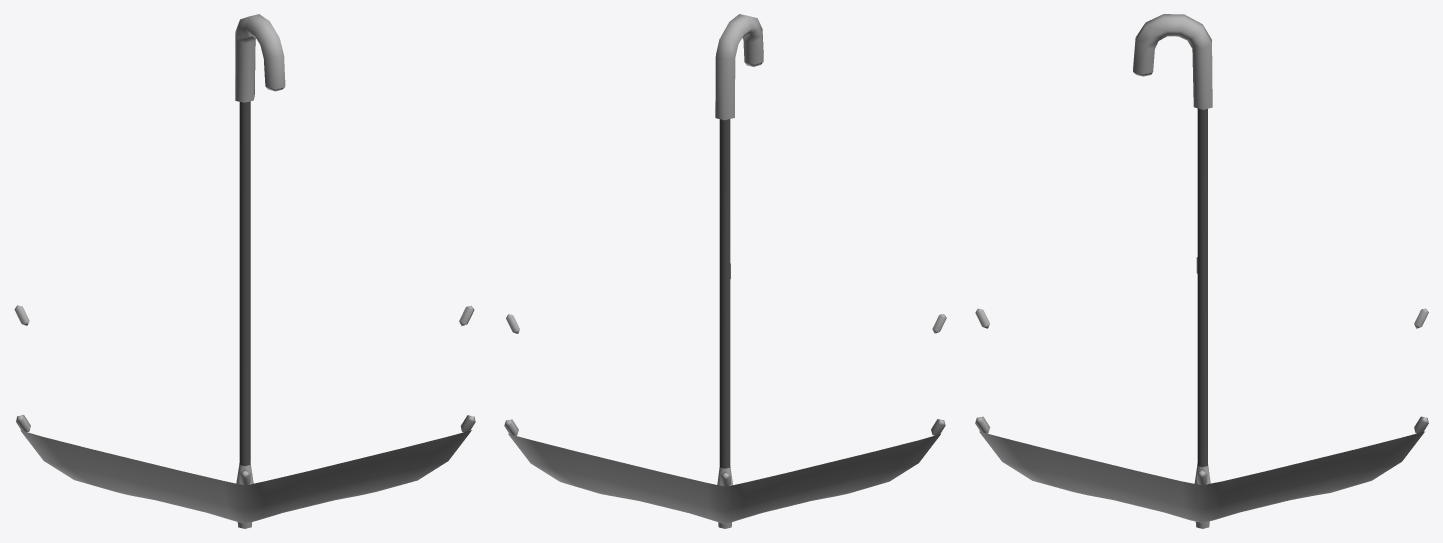
The model's file is UmbrellaVinyl0.glb.
The picture shows the model from 3 angles, left to right: view 1: azimuth 30°, elevation 25°; view 2: azimuth 150°, elevation 25°; view 3: azimuth 270°, elevation 25°; orthographic projection. The views are drawn at different scales.
Parts seen in each view (by area): view 1: Pole__mUmbrella; view 2: Pole__mUmbrella; view 3: Pole__mUmbrella.
Part boxes in pixels (x1=…): Pole__mUmbrella: x1=14, y1=14, x2=475, y2=528; Pole__mUmbrella: x1=504, y1=14, x2=946, y2=528; Pole__mUmbrella: x1=975, y1=14, x2=1428, y2=528.
Size of the model in its own units: 15.62 by 16.93 by 13.61.
Materials: 1 (1 with a texture image).
